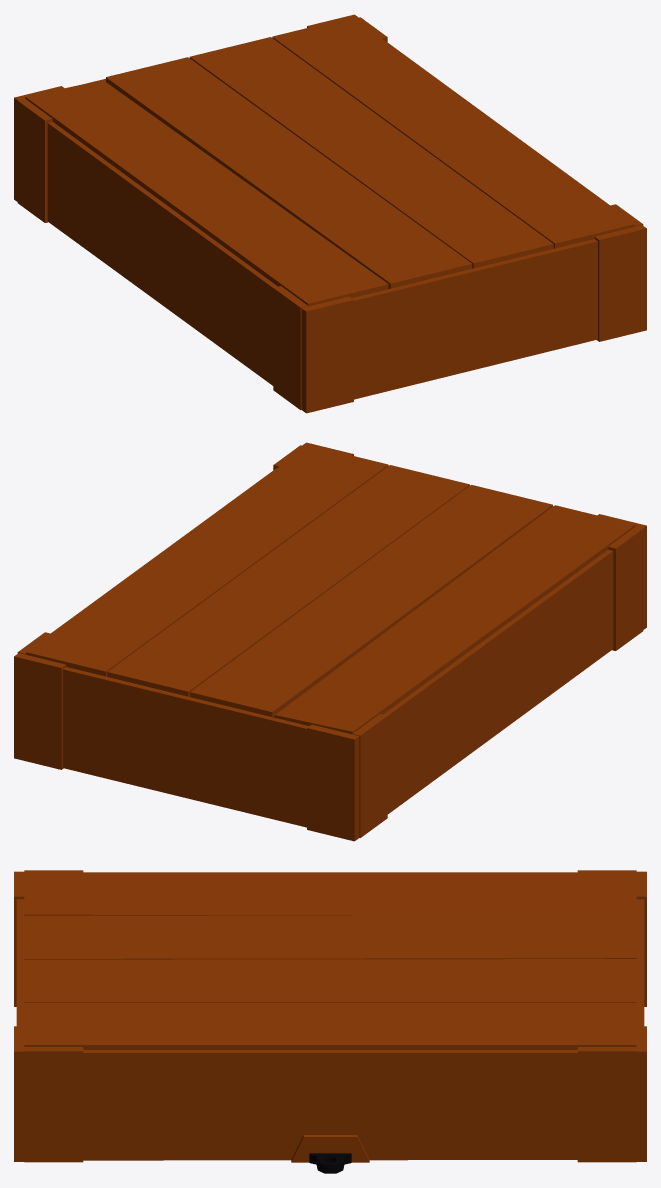
File: WoodChest_Top2.fbx
3 renders of one model, top to bottom at view 1: azimuth 30°, elevation 25°; view 2: azimuth 150°, elevation 25°; view 3: azimuth 270°, elevation 25°, orthographic. The views are drawn at different scales.
Parts seen in each view (by area): view 1: SM_WoodChest_Top_LOD0; view 2: SM_WoodChest_Top_LOD0; view 3: SM_WoodChest_Top_LOD0.
Part boxes in pixels (x1,y1,x2,y2): SM_WoodChest_Top_LOD0: (14,14,646,413); SM_WoodChest_Top_LOD0: (14,442,646,841); SM_WoodChest_Top_LOD0: (14,870,646,1173).
Bounding box in the file's own units: 17.67 × 4.85 × 24.43.
